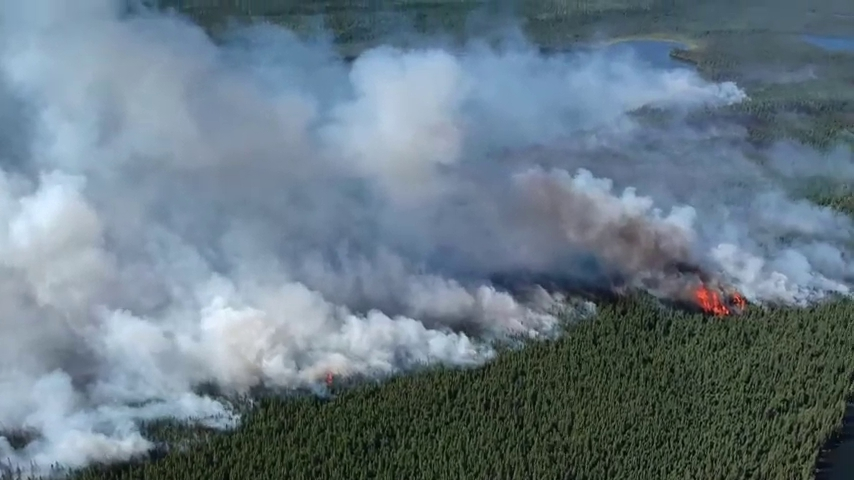forest_fire: (677, 281, 746, 315)
